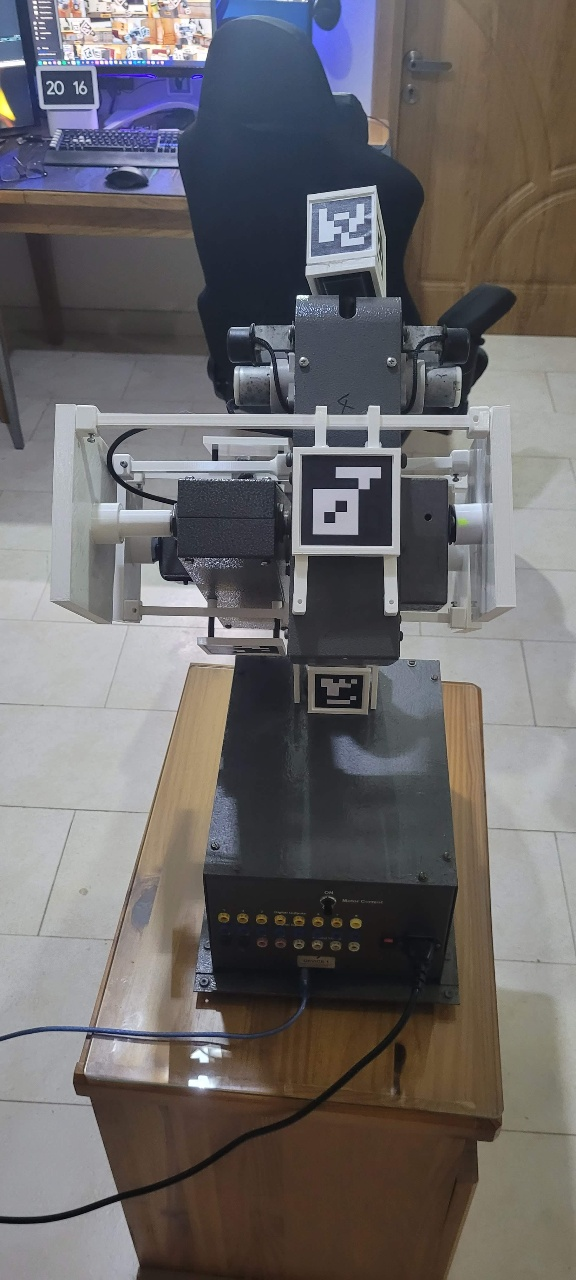Robot: (48, 182, 519, 719)
